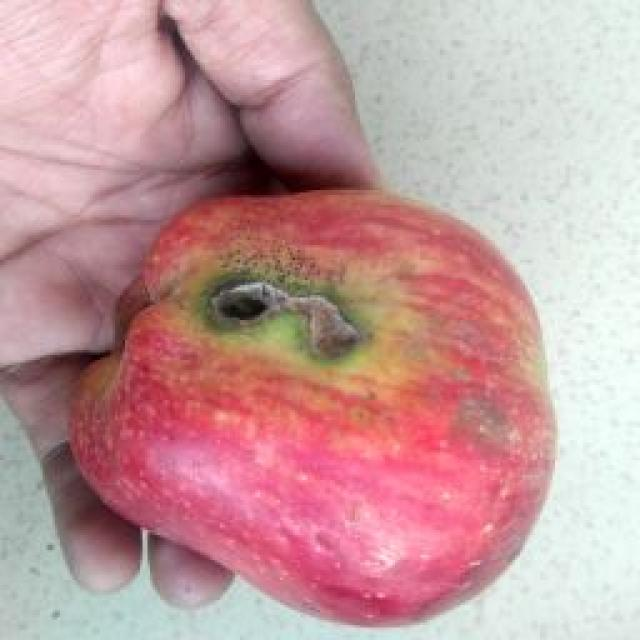Bad_Apple: (71, 192, 555, 624)
